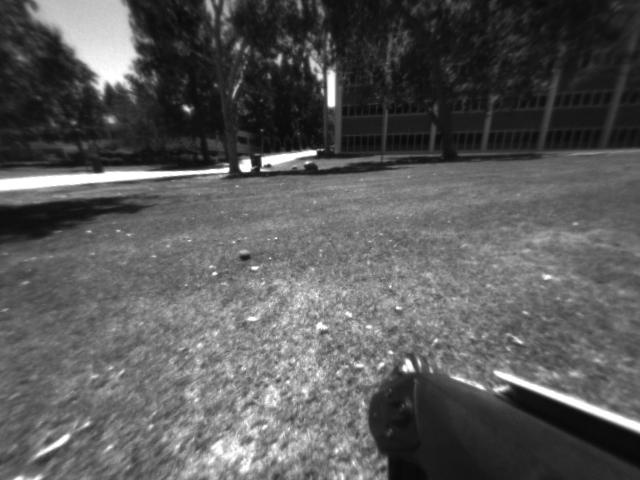dogtoy: (233, 245, 258, 266)
